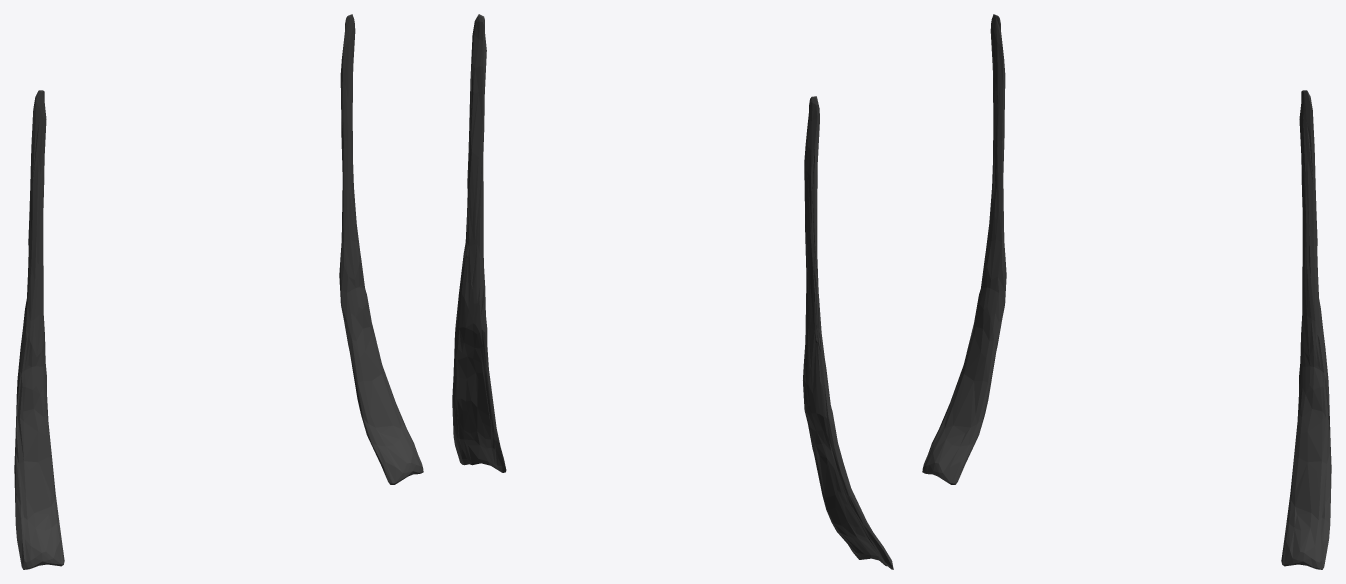
File: tendon_extensor_digitorum_longus.glb
3 views of the same model, side by side, from view 1: azimuth 30°, elevation 25°; view 2: azimuth 150°, elevation 25°; view 3: azimuth 330°, elevation 25° (orthographic). The views are drawn at different scales.
Visible parts, largest first — view 1: tendon_extensor_digitorum_longus; view 2: tendon_extensor_digitorum_longus; view 3: tendon_extensor_digitorum_longus.
Boxes of the visible parts, x1,y1,x2,y2 form: tendon_extensor_digitorum_longus: (14,14,423,569); tendon_extensor_digitorum_longus: (452,14,893,569); tendon_extensor_digitorum_longus: (922,14,1331,569).
Bounding box in the file's own units: 0.00579 × 0.0062 × 0.000996.
Materials: 1 (1 with a texture image).
